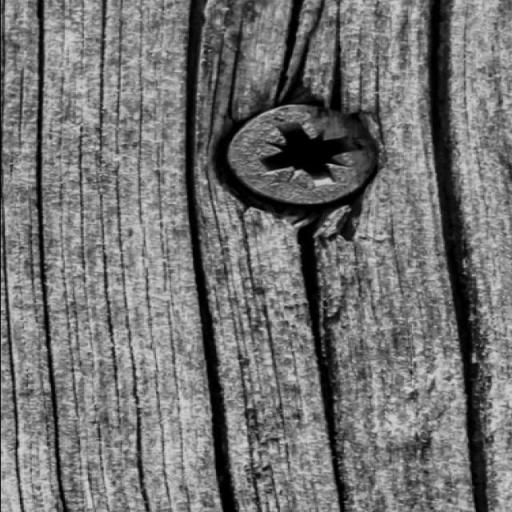Pozidriv: (218, 88, 377, 220)
